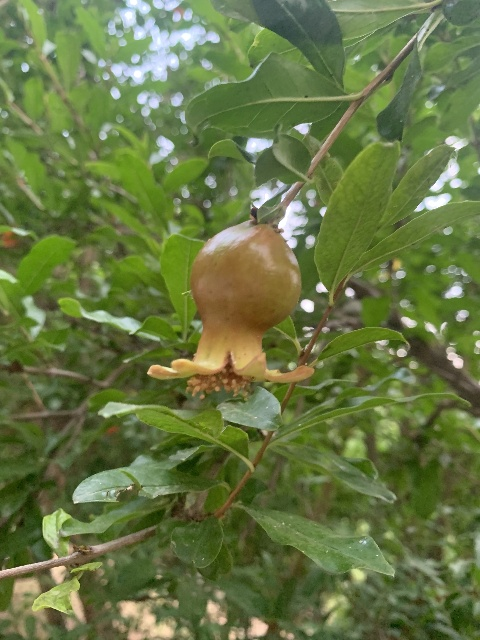early-fruit: (146, 220, 314, 400)
